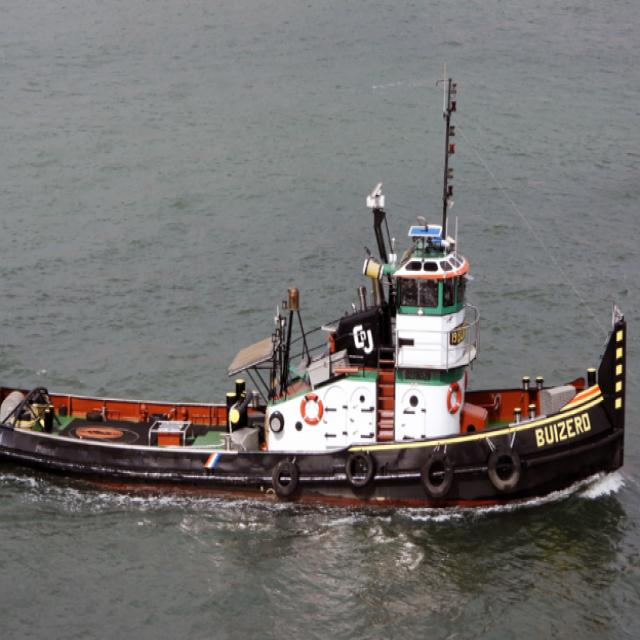tugboat: (1, 60, 632, 537)
